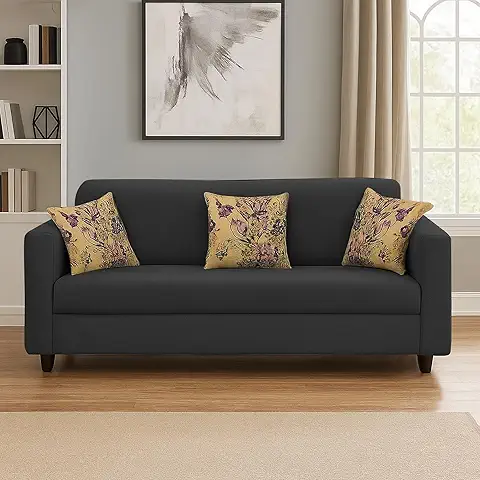backrest: (76, 176, 401, 263)
base: (52, 319, 418, 353)
leftarmrest: (406, 219, 451, 354)
leg: (418, 354, 432, 373), (42, 354, 53, 373)
pillow: (341, 190, 432, 274), (203, 189, 291, 272), (51, 193, 139, 274)
rightarmrest: (23, 223, 68, 352)
seat: (54, 263, 422, 318)
